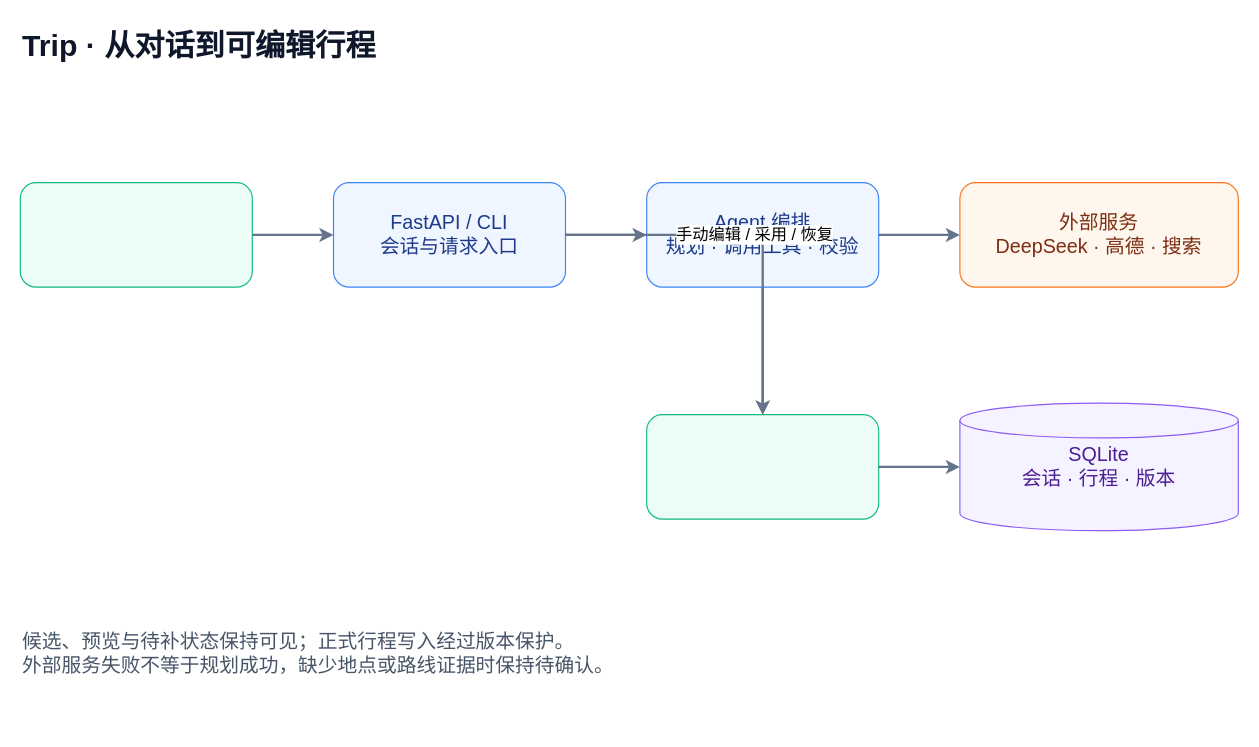
This 1259x747 diagram has some shape labels left out. The centre of each missing label's shape, as x and y in pixels:
React 工作台 对话 · 地图 · 时间轴: pixel 135 234
统一写入服务 版本校验 · Patch · 恢复: pixel 762 466
